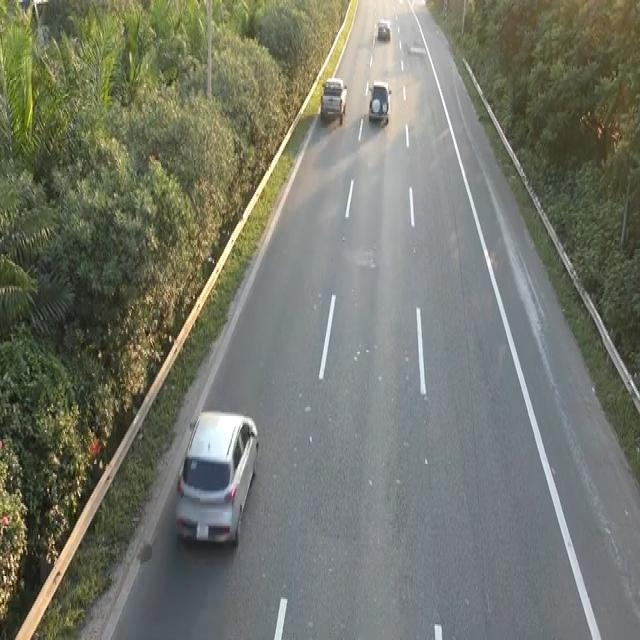car: (318, 73, 348, 126), (367, 78, 391, 126)
lorry: (172, 405, 262, 553)
